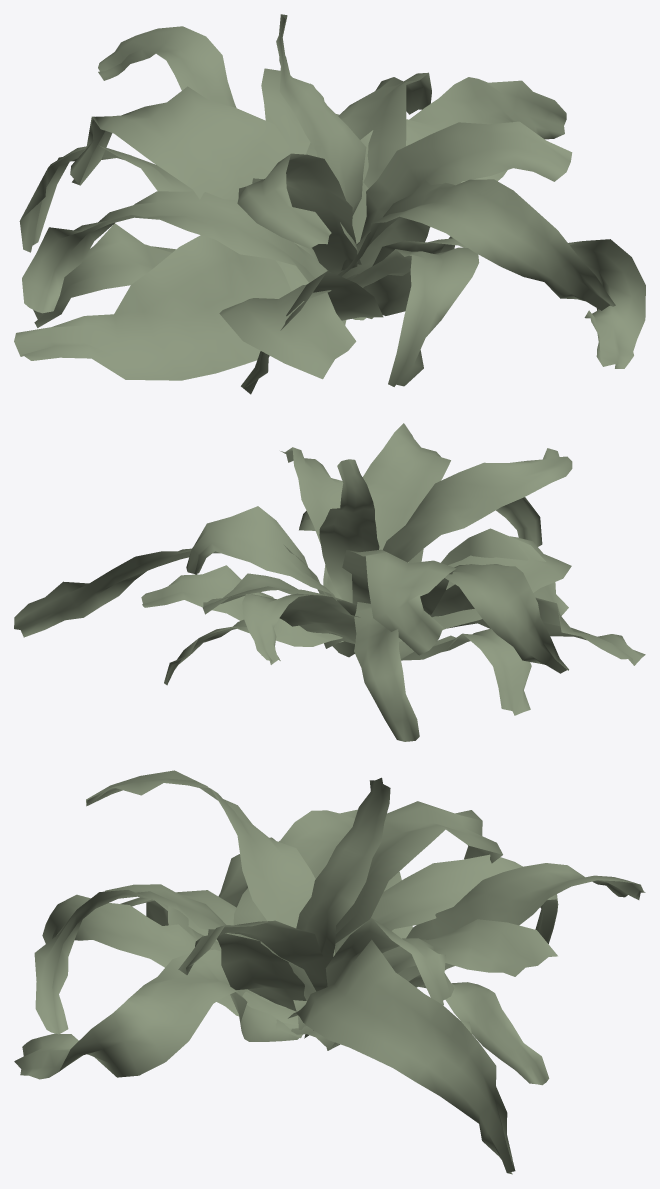
File: fern_02_2.glb
The picture shows the model from 3 angles, top to bottom: view 1: azimuth 30°, elevation 25°; view 2: azimuth 150°, elevation 25°; view 3: azimuth 270°, elevation 25°; orthographic projection. The views are drawn at different scales.
Parts seen in each view (by area): view 1: fern_02_2; view 2: fern_02_2; view 3: fern_02_2.
Part boxes in pixels (bbox=[...]): fern_02_2: bbox=[14, 14, 645, 394]; fern_02_2: bbox=[14, 423, 645, 741]; fern_02_2: bbox=[14, 770, 645, 1174].
Size of the model in its own units: 0.8743 by 0.349 by 0.7652.
